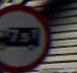Heavy Vehicles: (0, 2, 52, 69)
